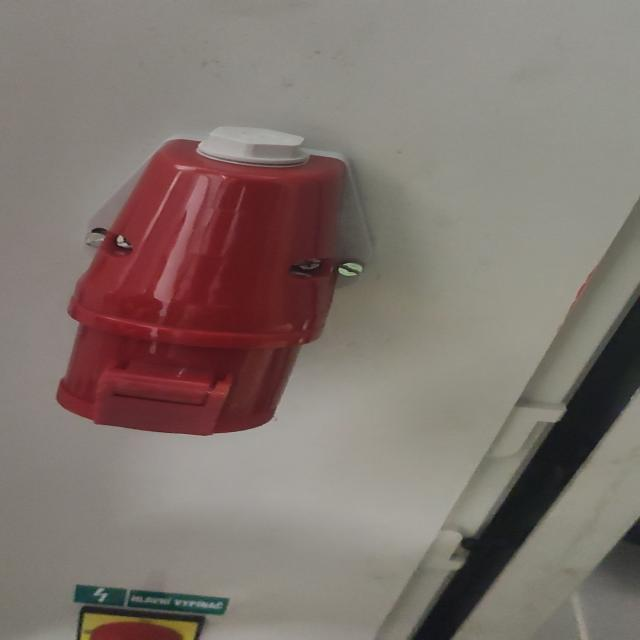400v socket down: (55, 126, 376, 439)
